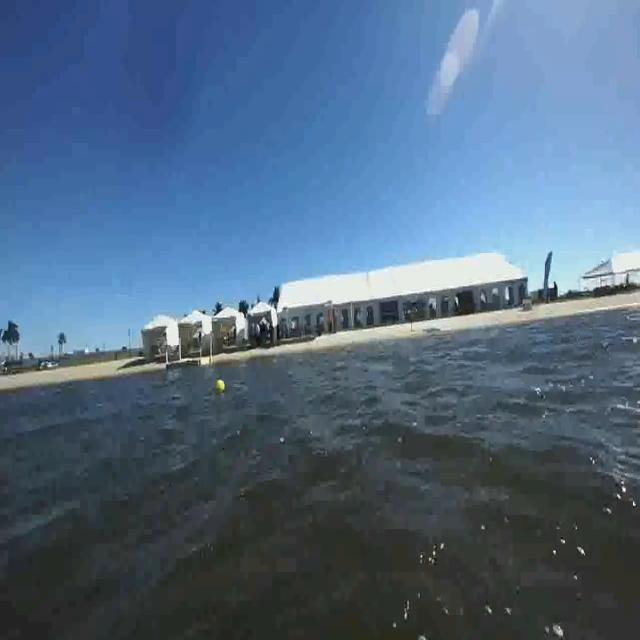yellow-buoy: (216, 379, 225, 393)
